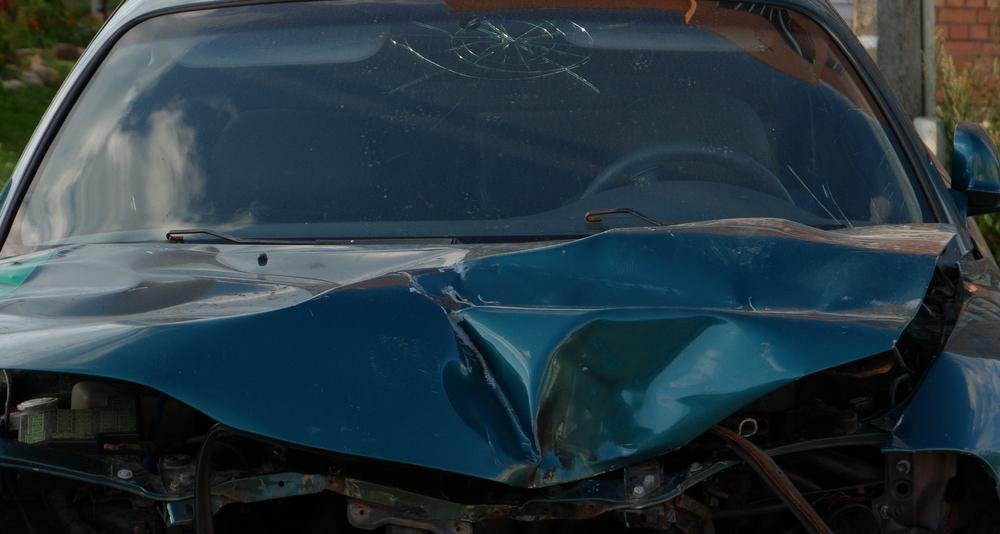dent: (0, 216, 939, 492)
glass shatter: (0, 0, 939, 261)
